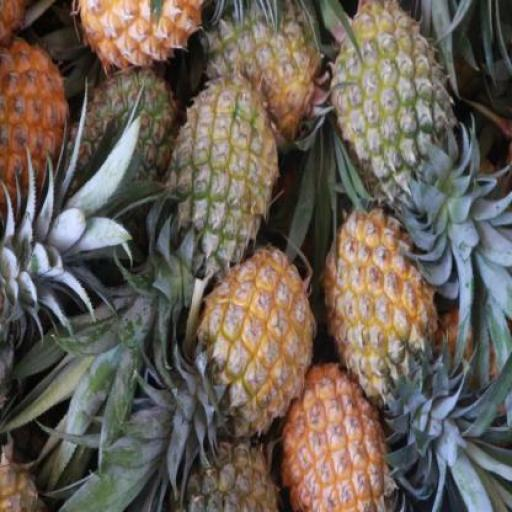------------------------------: (330, 3, 450, 217), (170, 83, 276, 278), (204, 0, 322, 143)
Pineapple - v8 v1: (321, 214, 430, 410), (198, 254, 305, 438), (283, 365, 396, 512), (0, 32, 69, 230)
